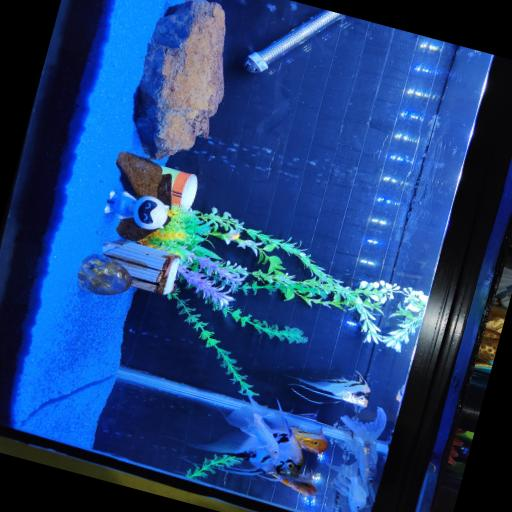Fish: (191, 398, 302, 475), (341, 406, 386, 486), (225, 396, 278, 459), (267, 401, 302, 475), (297, 371, 369, 406), (327, 461, 368, 511), (291, 422, 327, 453), (291, 425, 327, 453), (271, 473, 316, 494)
